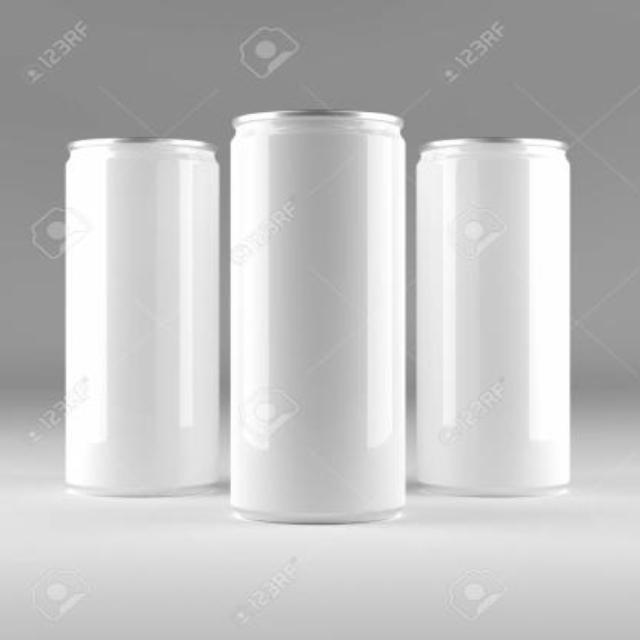metal: (229, 109, 402, 520), (415, 137, 568, 491), (65, 137, 217, 492)
